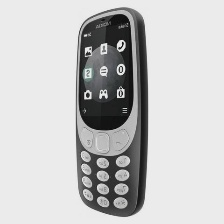phone: (70, 2, 155, 219)
